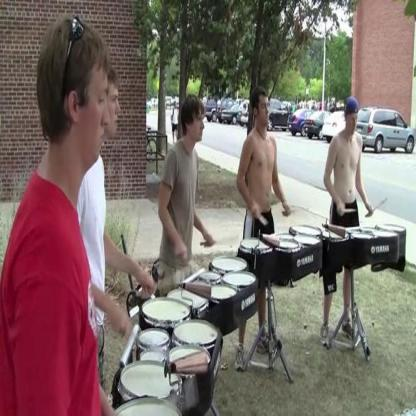face: (78, 61, 111, 166), (104, 86, 122, 137), (191, 110, 205, 142), (258, 96, 270, 126), (349, 114, 359, 135)
